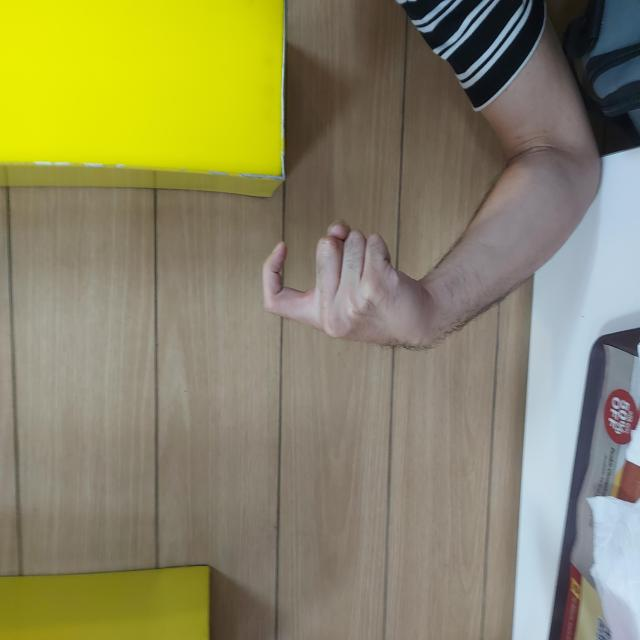X: (286, 259, 421, 435)
